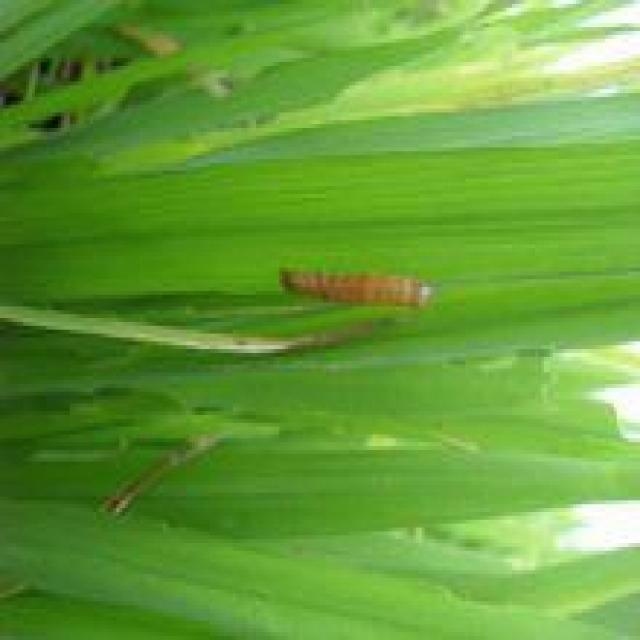pest: (286, 256, 437, 312)
